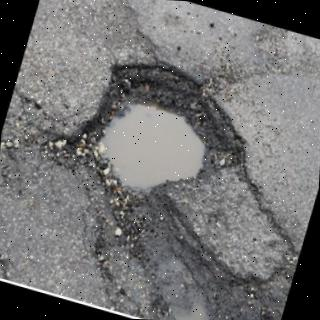pothole: (50, 63, 292, 320)
